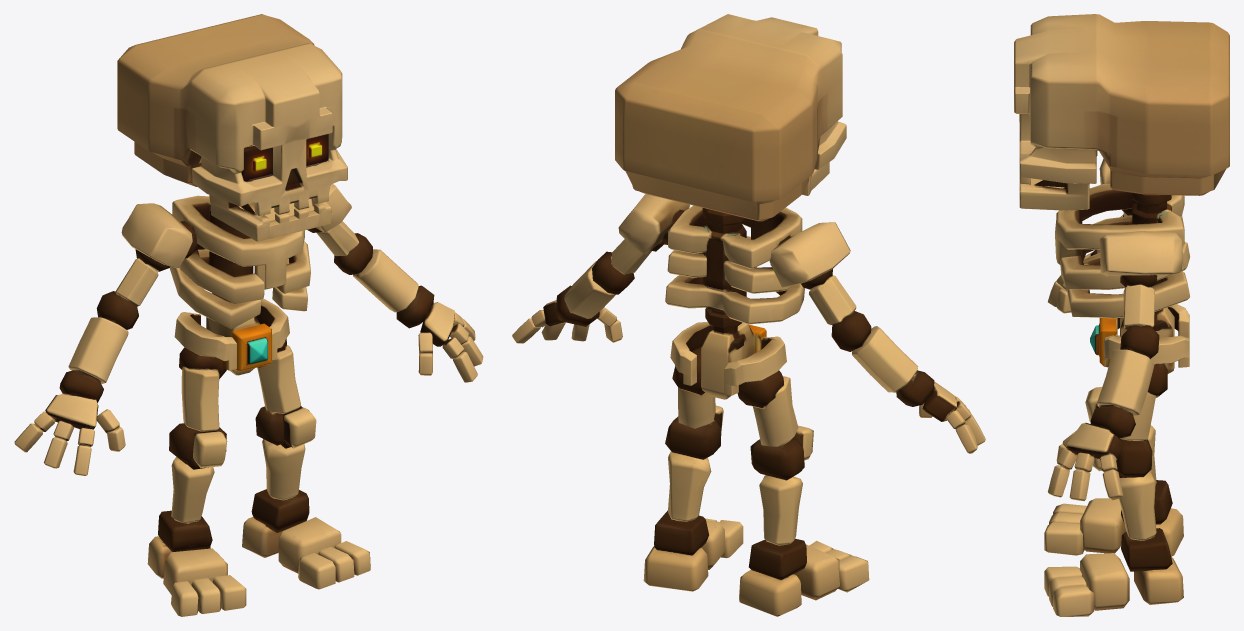
File: SkeletonMinion_UnriggedSource.fbx
3 renders of one model, left to right at view 1: azimuth 30°, elevation 25°; view 2: azimuth 150°, elevation 25°; view 3: azimuth 270°, elevation 25°, orthographic.
Visible parts, largest first — view 1: tripo_node_a273824b; view 2: tripo_node_a273824b; view 3: tripo_node_a273824b.
Boxes of the visible parts, bbox=[...] form: tripo_node_a273824b: bbox=[14, 14, 483, 616]; tripo_node_a273824b: bbox=[512, 14, 985, 616]; tripo_node_a273824b: bbox=[1014, 14, 1229, 616].
Bounding box in the file's own units: 0.9136 × 0.9995 × 0.3667.
